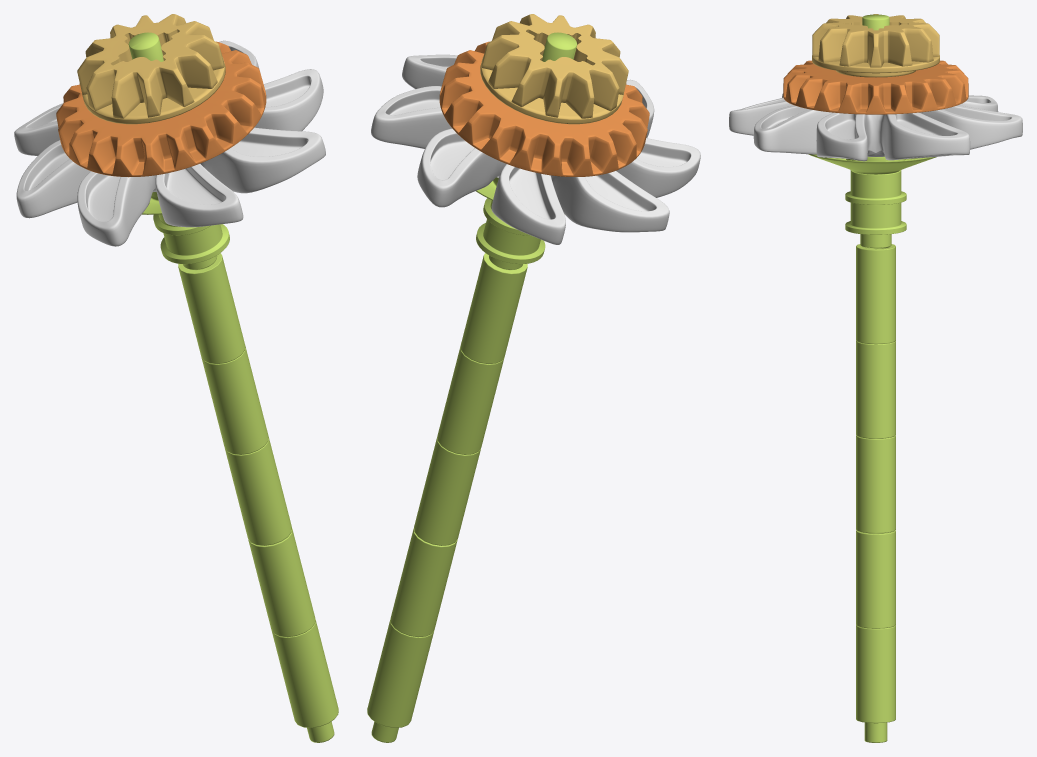
Rendered from flower.fbx.
3 renders of one model, left to right at view 1: azimuth 30°, elevation 25°; view 2: azimuth 150°, elevation 25°; view 3: azimuth 270°, elevation 25°, orthographic. The views are drawn at different scales.
Parts seen in each view (by area): view 1: FLower Lego.054, FLower Lego.050, FLower Lego.047, FLower Lego.055, FLower Lego.041, FLower Lego.044, FLower Lego.043, FLower Lego.042, FLower Lego.052, FLower Lego.046, FLower Lego.002; view 2: FLower Lego.054, FLower Lego.050, FLower Lego.047, FLower Lego.055, FLower Lego.041, FLower Lego.044, FLower Lego.043, FLower Lego.042, FLower Lego.052, FLower Lego.046, FLower Lego.002; view 3: FLower Lego.054, FLower Lego.050, FLower Lego.047, FLower Lego.055, FLower Lego.041, FLower Lego.044, FLower Lego.043, FLower Lego.042, FLower Lego.052, FLower Lego.053, FLower Lego.046, FLower Lego.045.
Part boxes in pixels (x1,y1,x2,y2): FLower Lego.054: [14, 40, 325, 246]; FLower Lego.050: [56, 41, 266, 177]; FLower Lego.047: [77, 14, 224, 118]; FLower Lego.055: [272, 619, 338, 742]; FLower Lego.041: [178, 253, 245, 363]; FLower Lego.044: [248, 528, 315, 637]; FLower Lego.043: [225, 437, 291, 545]; FLower Lego.042: [201, 346, 268, 454]; FLower Lego.052: [160, 224, 229, 269]; FLower Lego.046: [82, 57, 225, 124]; FLower Lego.002: [128, 32, 163, 61]; FLower Lego.054: [371, 54, 700, 244]; FLower Lego.050: [439, 41, 649, 176]; FLower Lego.047: [481, 14, 628, 118]; FLower Lego.055: [367, 619, 433, 742]; FLower Lego.041: [460, 253, 527, 363]; FLower Lego.044: [390, 528, 457, 637]; FLower Lego.043: [414, 437, 480, 545]; FLower Lego.042: [437, 346, 504, 454]; FLower Lego.052: [476, 219, 545, 269]; FLower Lego.046: [480, 57, 623, 124]; FLower Lego.002: [542, 32, 577, 61]; FLower Lego.054: [729, 93, 1022, 161]; FLower Lego.050: [783, 60, 968, 114]; FLower Lego.047: [812, 14, 939, 67]; FLower Lego.055: [856, 625, 895, 742]; FLower Lego.041: [856, 244, 895, 344]; FLower Lego.044: [856, 530, 895, 628]; FLower Lego.043: [856, 435, 895, 533]; FLower Lego.042: [856, 341, 895, 438]; FLower Lego.052: [845, 202, 906, 247]; FLower Lego.053: [845, 170, 906, 204]; FLower Lego.046: [812, 55, 939, 77]; FLower Lego.045: [808, 154, 936, 174].
Bounding box in the file's own units: 9.23 × 21.41 × 8.7.
